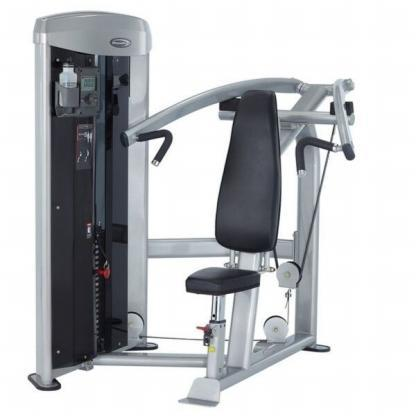shoulder press machine: (26, 8, 367, 412)
